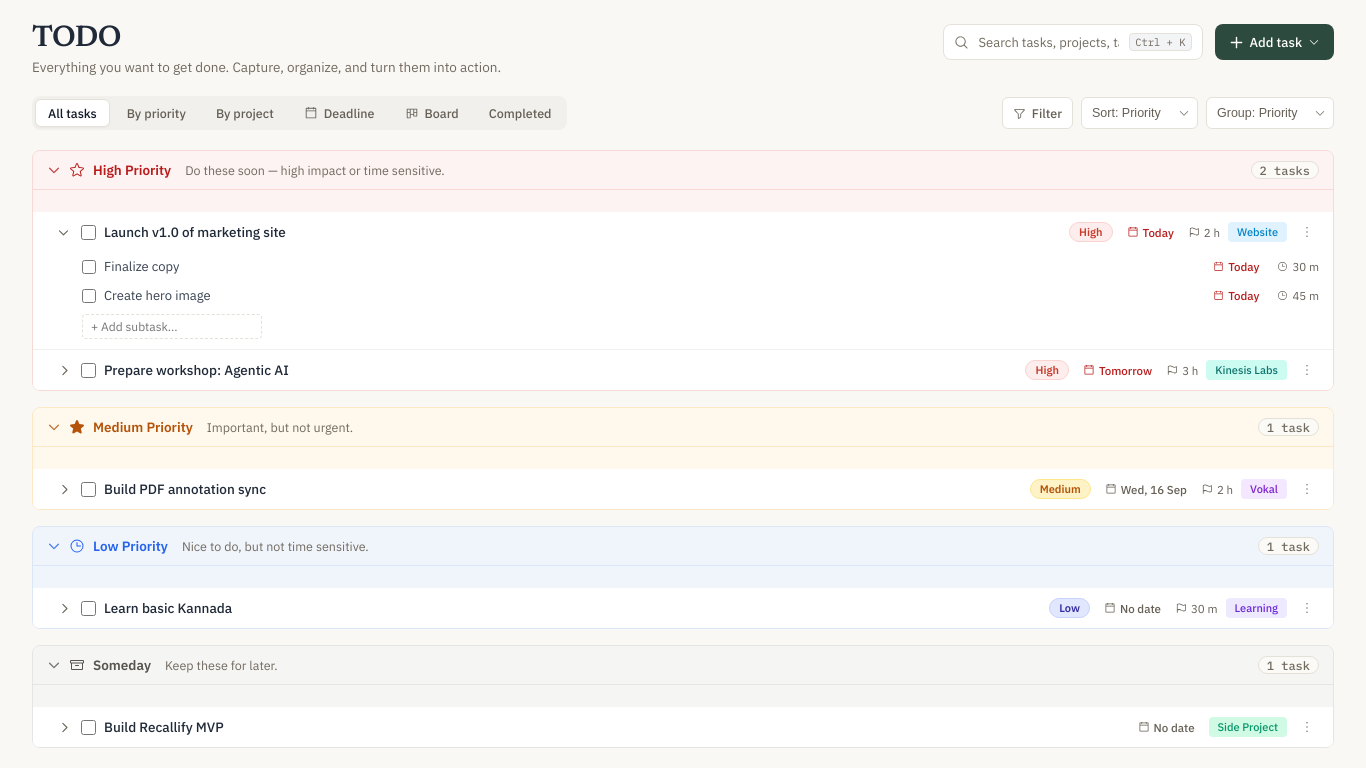
Test case: TodoView render flows › opens task options menu when 3-dots button is clicked and displays all actions
// Click first task's 3-dots button
Click the 1st button named "Task options".
click(1307, 232)  # box [1295,220,1319,244]
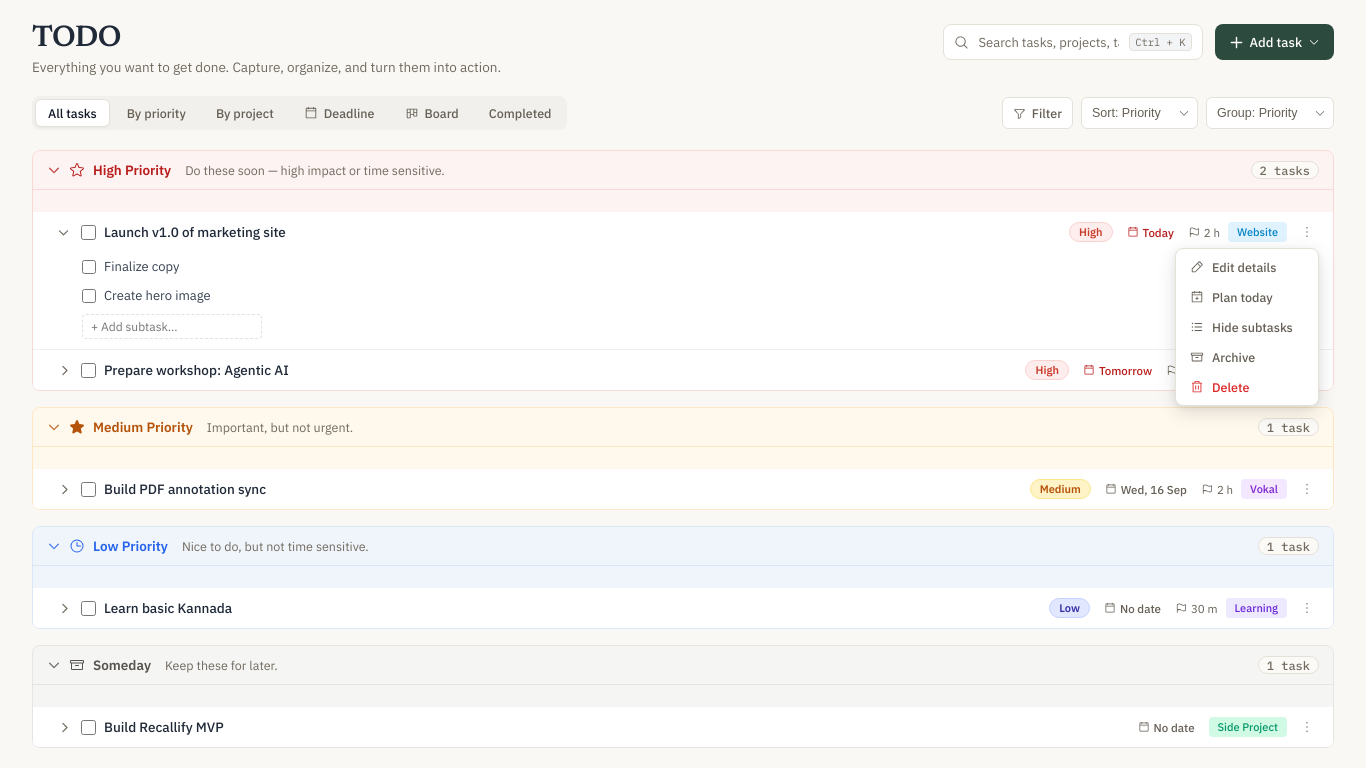
Check: the text "Edit details" is shown, box [1212,259,1276,275]
Check: the text "Plan today" is shown, box [1212,289,1273,305]
Check: the text "Hide subtasks" is shown, box [1212,319,1293,335]
